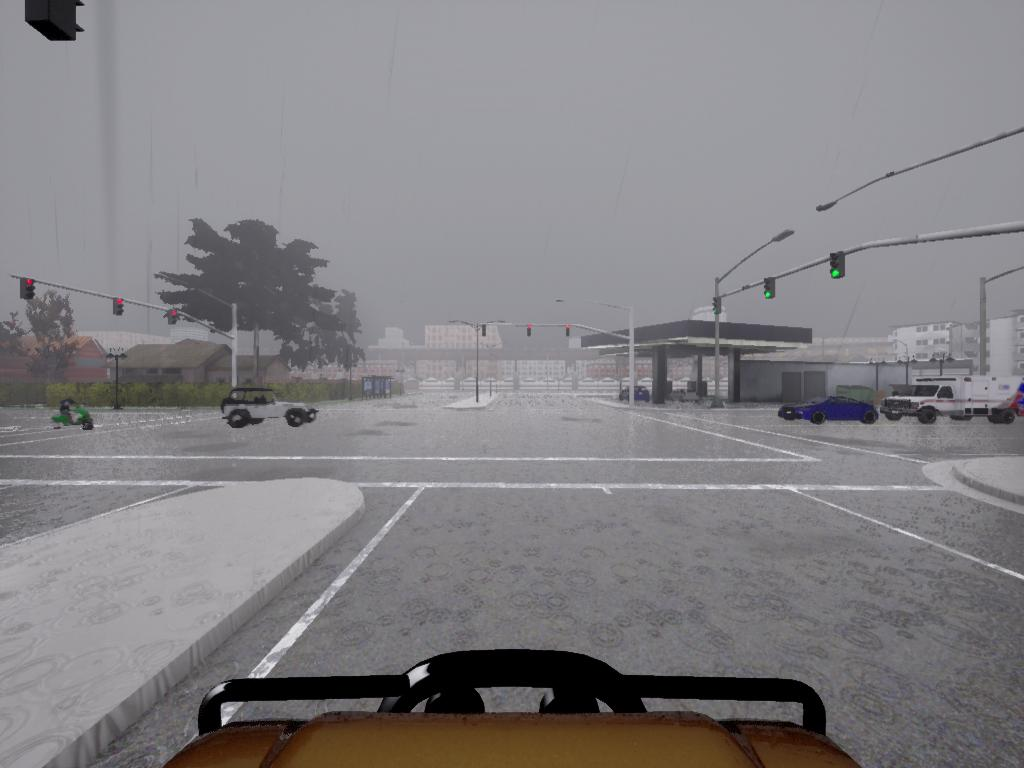traffic_light: (27, 1, 86, 41), (829, 254, 847, 281), (23, 278, 37, 302), (763, 279, 776, 301), (166, 310, 181, 326), (712, 297, 723, 317), (113, 299, 123, 319), (481, 324, 489, 338), (563, 326, 572, 336), (524, 326, 532, 337), (528, 327, 535, 337)
